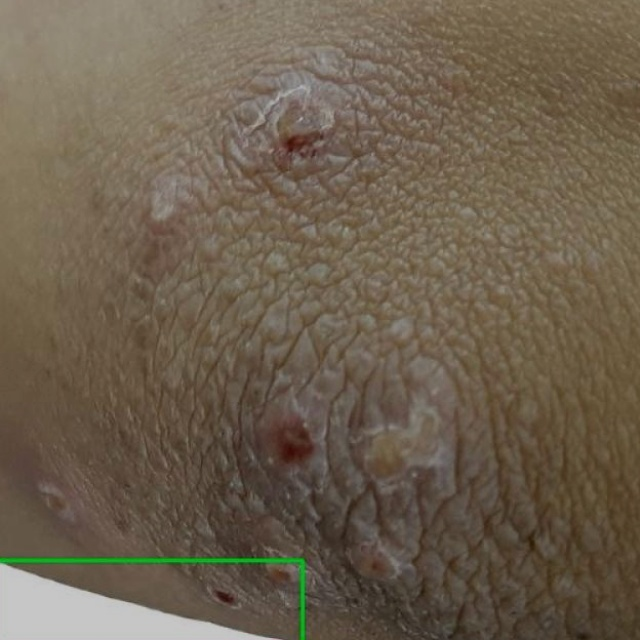Contact Dermatitis: (0, 560, 303, 639)
